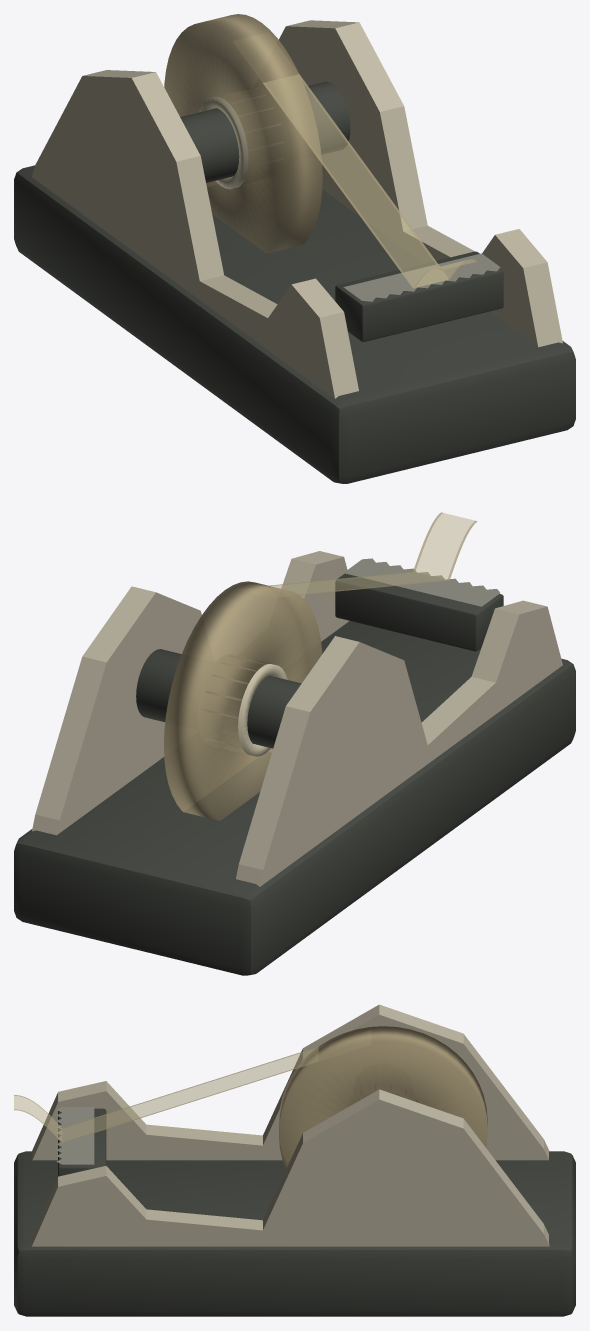
File: A05_Dispenser_ROOT.fbx
3 renders of one model, top to bottom at view 1: azimuth 30°, elevation 25°; view 2: azimuth 150°, elevation 25°; view 3: azimuth 270°, elevation 25°, orthographic. The views are drawn at different scales.
Parts seen in each view (by area): view 1: A05_WeightedBase, A05_Cheek.001, A05_Cheek, A05_TapeRoll, A05_WebToCutter, A05_CutterSupport, A05_CenterAxle, A05_SerratedCutter, A05_CardboardCore, A05_PullableTail; view 2: A05_WeightedBase, A05_Cheek.001, A05_Cheek, A05_TapeRoll, A05_CutterSupport, A05_CenterAxle, A05_SerratedCutter, A05_PullableTail, A05_WebToCutter, A05_CardboardCore; view 3: A05_WeightedBase, A05_Cheek, A05_Cheek.001, A05_TapeRoll, A05_WebToCutter, A05_SerratedCutter, A05_CutterSupport, A05_PullableTail.
Boxes of the visible parts, x1,y1,x2,y2 form: A05_WeightedBase: [14, 165, 575, 483]; A05_Cheek.001: [32, 70, 358, 398]; A05_Cheek: [279, 20, 562, 347]; A05_TapeRoll: [164, 14, 322, 253]; A05_WebToCutter: [233, 33, 448, 287]; A05_CutterSupport: [335, 251, 503, 341]; A05_CenterAxle: [180, 81, 350, 182]; A05_SerratedCutter: [343, 253, 500, 301]; A05_CardboardCore: [199, 91, 284, 189]; A05_PullableTail: [413, 259, 477, 288]; A05_WeightedBase: [14, 621, 575, 975]; A05_Cheek.001: [236, 600, 562, 886]; A05_Cheek: [32, 551, 349, 835]; A05_TapeRoll: [164, 581, 322, 820]; A05_CutterSupport: [335, 573, 503, 651]; A05_CenterAxle: [136, 649, 301, 748]; A05_SerratedCutter: [344, 558, 499, 606]; A05_PullableTail: [413, 512, 477, 580]; A05_WebToCutter: [235, 571, 448, 597]; A05_CardboardCore: [202, 658, 287, 756]; A05_WeightedBase: [14, 1151, 575, 1316]; A05_Cheek: [32, 1089, 549, 1246]; A05_Cheek.001: [32, 1004, 549, 1160]; A05_TapeRoll: [279, 1026, 487, 1169]; A05_WebToCutter: [62, 1030, 370, 1142]; A05_SerratedCutter: [56, 1107, 94, 1164]; A05_CutterSupport: [58, 1108, 106, 1176]; A05_PullableTail: [14, 1095, 62, 1142].
Bounding box in the file's own units: 6 × 6.5 × 14.
